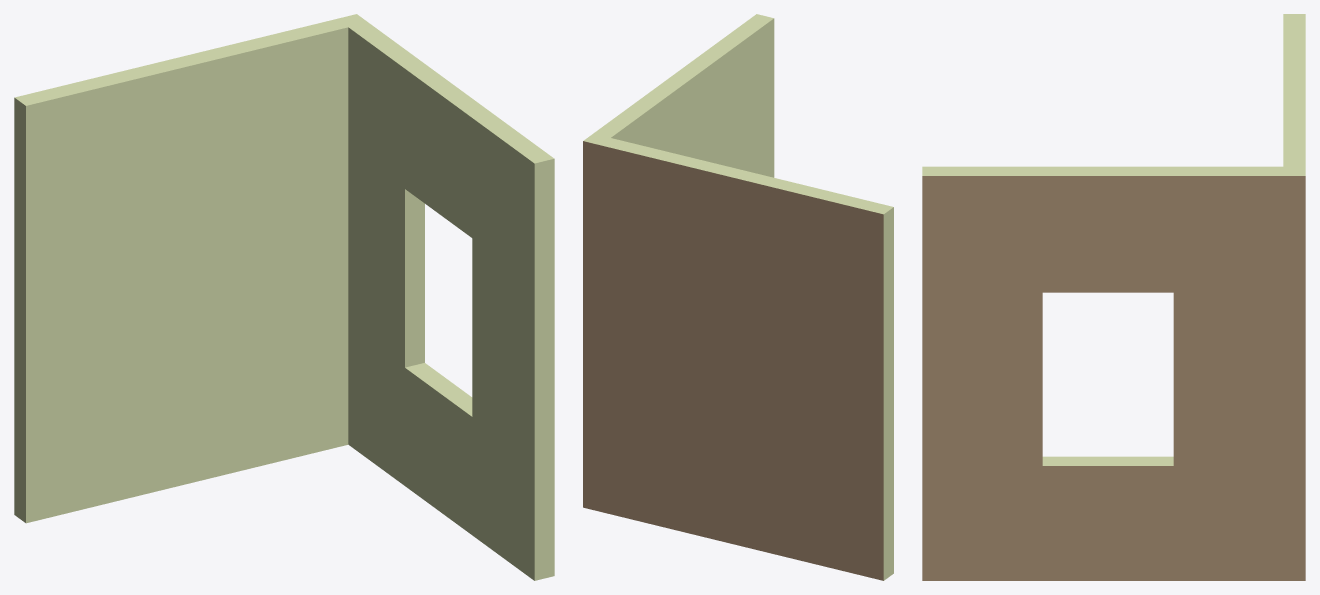
File: Wall2_C5_08.fbx
The picture shows the model from 3 angles, left to right: view 1: azimuth 30°, elevation 25°; view 2: azimuth 150°, elevation 25°; view 3: azimuth 270°, elevation 25°; orthographic projection. The views are drawn at different scales.
Visible parts, largest first — view 1: Wall2_C5_08; view 2: Wall2_C5_08; view 3: Wall2_C5_08.
Part boxes in pixels (<box>): Wall2_C5_08: <box>14,14,554,580</box>; Wall2_C5_08: <box>583,14,893,580</box>; Wall2_C5_08: <box>922,14,1305,580</box>.
Bounding box in the file's own units: 258 × 300 × 258.
